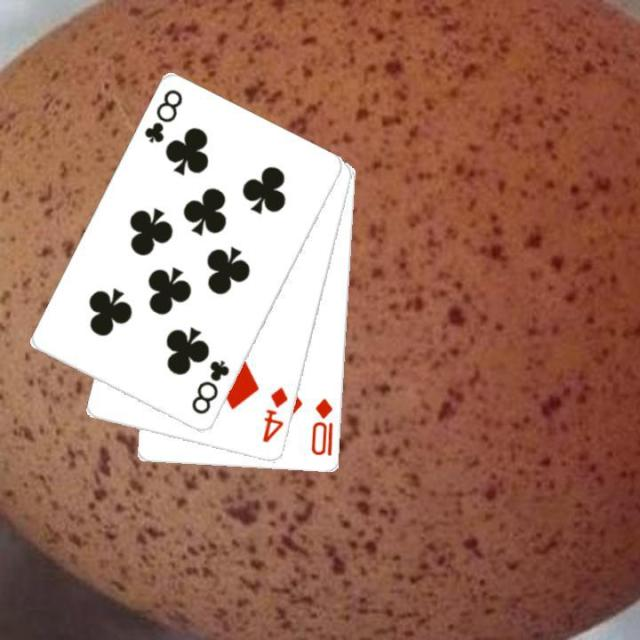10D: (308, 394, 335, 458)
4D: (258, 384, 290, 445)
8C: (140, 85, 185, 146), (188, 356, 232, 417)
